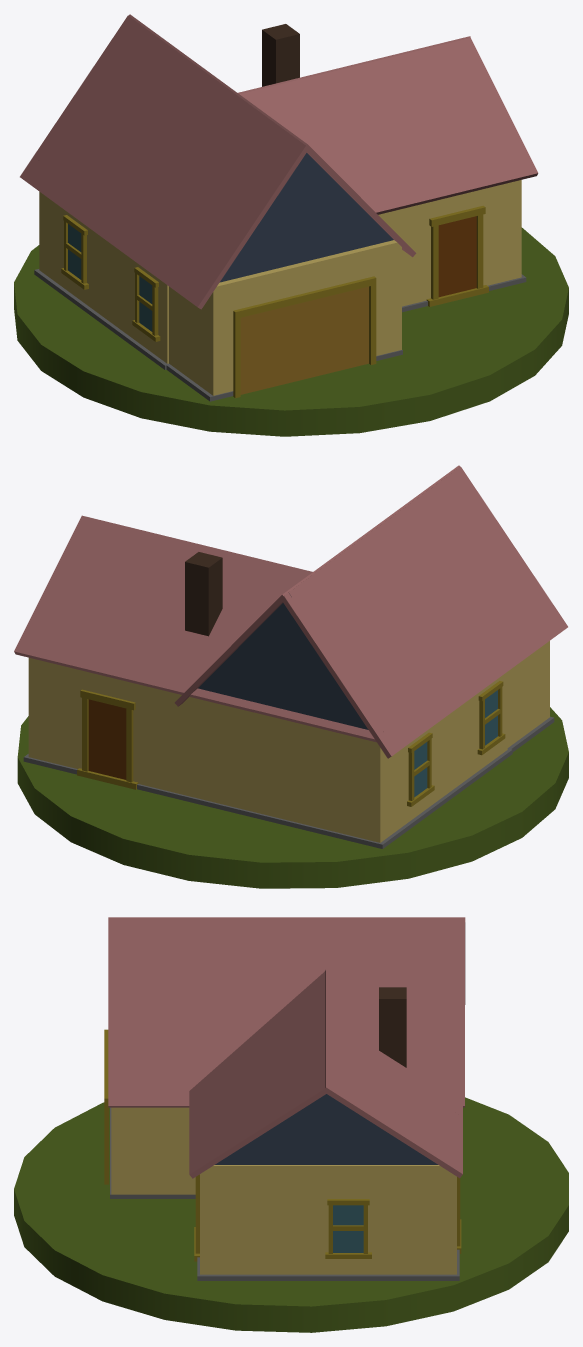
File: house.glb
3 renders of one model, top to bottom at view 1: azimuth 30°, elevation 25°; view 2: azimuth 150°, elevation 25°; view 3: azimuth 270°, elevation 25°, orthographic.
Visible parts, largest first — view 1: Box (×14), Cylinder, Plane (×5); view 2: Box (×10), Cylinder, Plane (×4); view 3: Box (×8), Cylinder, Plane (×2).
Boxes of the visible parts, bbox=[...] form: Box (×14): bbox=[20, 14, 538, 401]; Cylinder: bbox=[14, 227, 568, 436]; Plane (×5): bbox=[68, 153, 476, 394]; Box (×10): bbox=[14, 465, 567, 848]; Cylinder: bbox=[17, 707, 568, 888]; Plane (×4): bbox=[88, 593, 497, 797]; Box (×8): bbox=[108, 917, 464, 1280]; Cylinder: bbox=[14, 1097, 568, 1332]; Plane (×2): bbox=[215, 1094, 437, 1252].
Size of the model in its own units: 0.9578 by 0.4959 by 0.9555.
